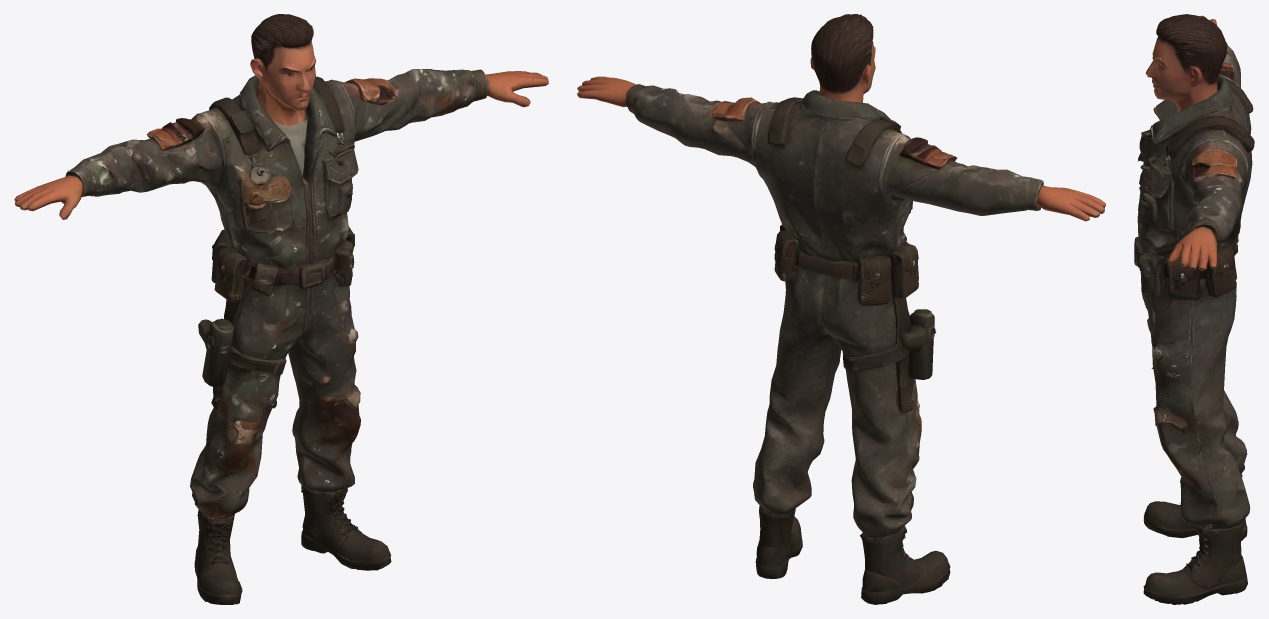
Rendered from character_idle.glb.
3 renders of one model, left to right at view 1: azimuth 30°, elevation 25°; view 2: azimuth 150°, elevation 25°; view 3: azimuth 270°, elevation 25°, orthographic. The views are drawn at different scales.
Visible parts, largest first — view 1: tripo_node_9ed1de0c-4d79-4f33-9060-8d62076af99c; view 2: tripo_node_9ed1de0c-4d79-4f33-9060-8d62076af99c; view 3: tripo_node_9ed1de0c-4d79-4f33-9060-8d62076af99c.
Part boxes in pixels (bbox=[...]): tripo_node_9ed1de0c-4d79-4f33-9060-8d62076af99c: bbox=[14, 14, 548, 604]; tripo_node_9ed1de0c-4d79-4f33-9060-8d62076af99c: bbox=[577, 14, 1105, 604]; tripo_node_9ed1de0c-4d79-4f33-9060-8d62076af99c: bbox=[1134, 14, 1254, 604].
Bounding box in the file's own units: 1.78 × 1.8 × 0.3601.
1 material, 1 textured.
